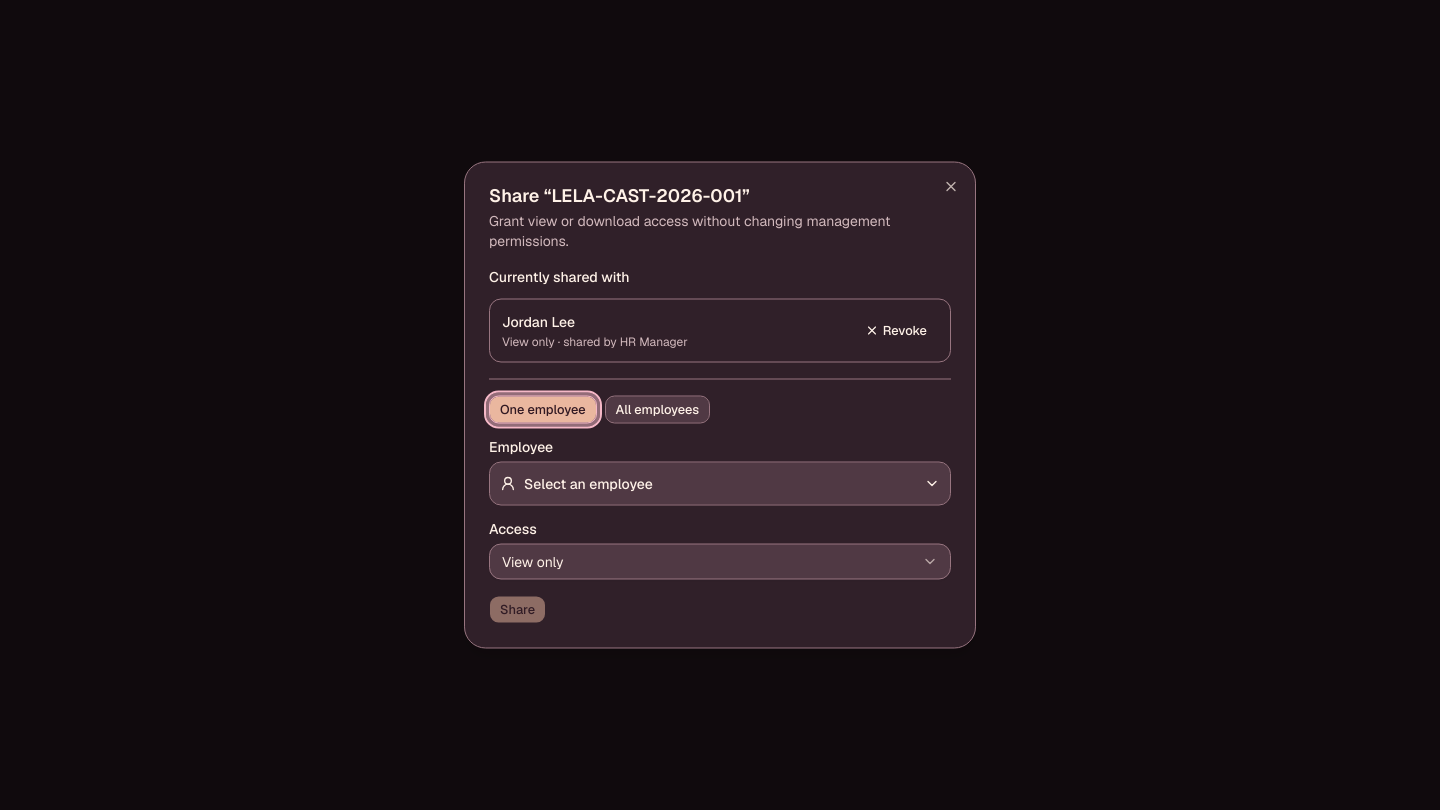
ShareDialog › allows retrying an employee lookup failure
The image size is (1440, 810).
Click the button with aria-label "Select employee". click: click(588, 484)
box: [489,462,951,506]
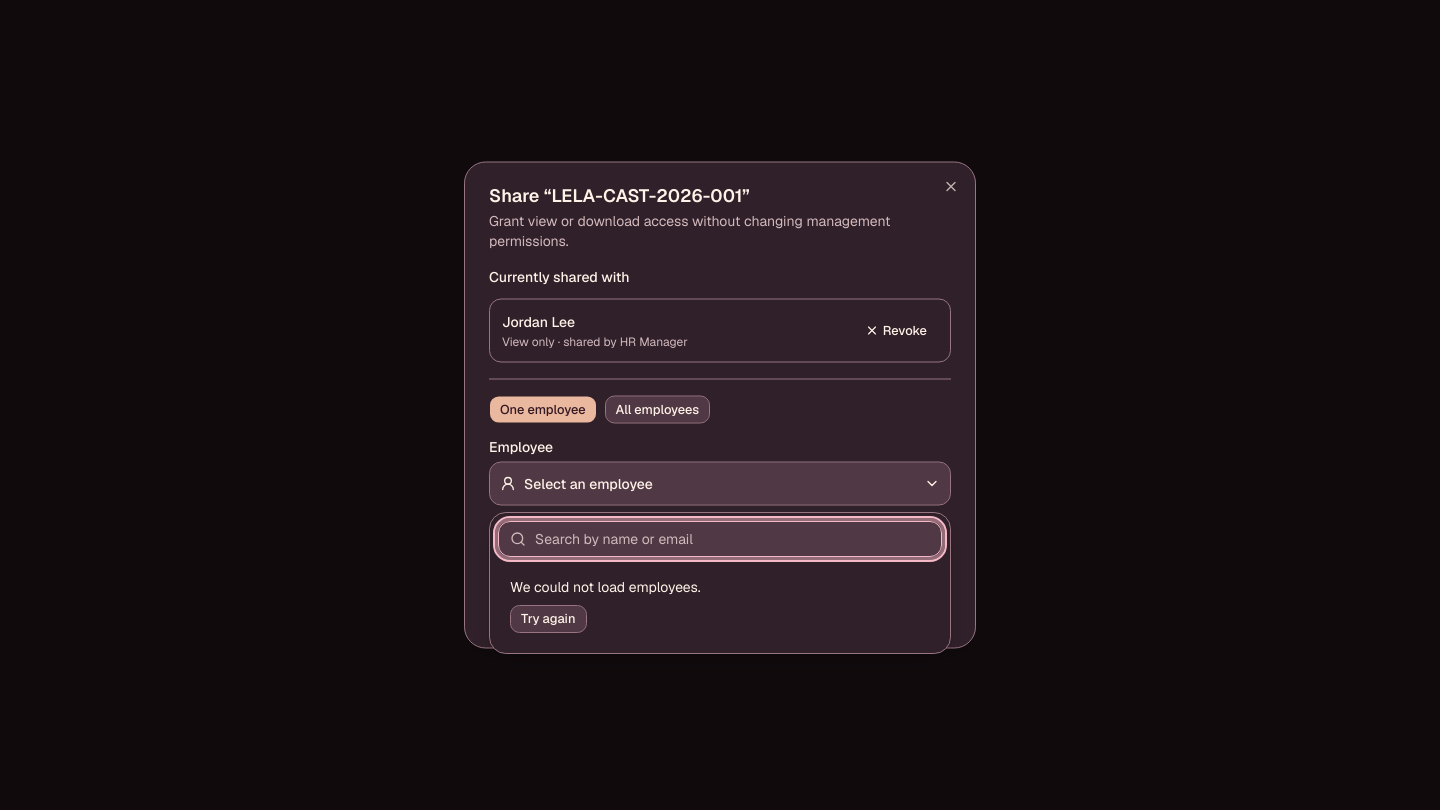
Result: the message shows "We could not load employees." at [510,578,701,596]
Click the button "Try again". click: click(548, 619)
box: [510,605,586,633]
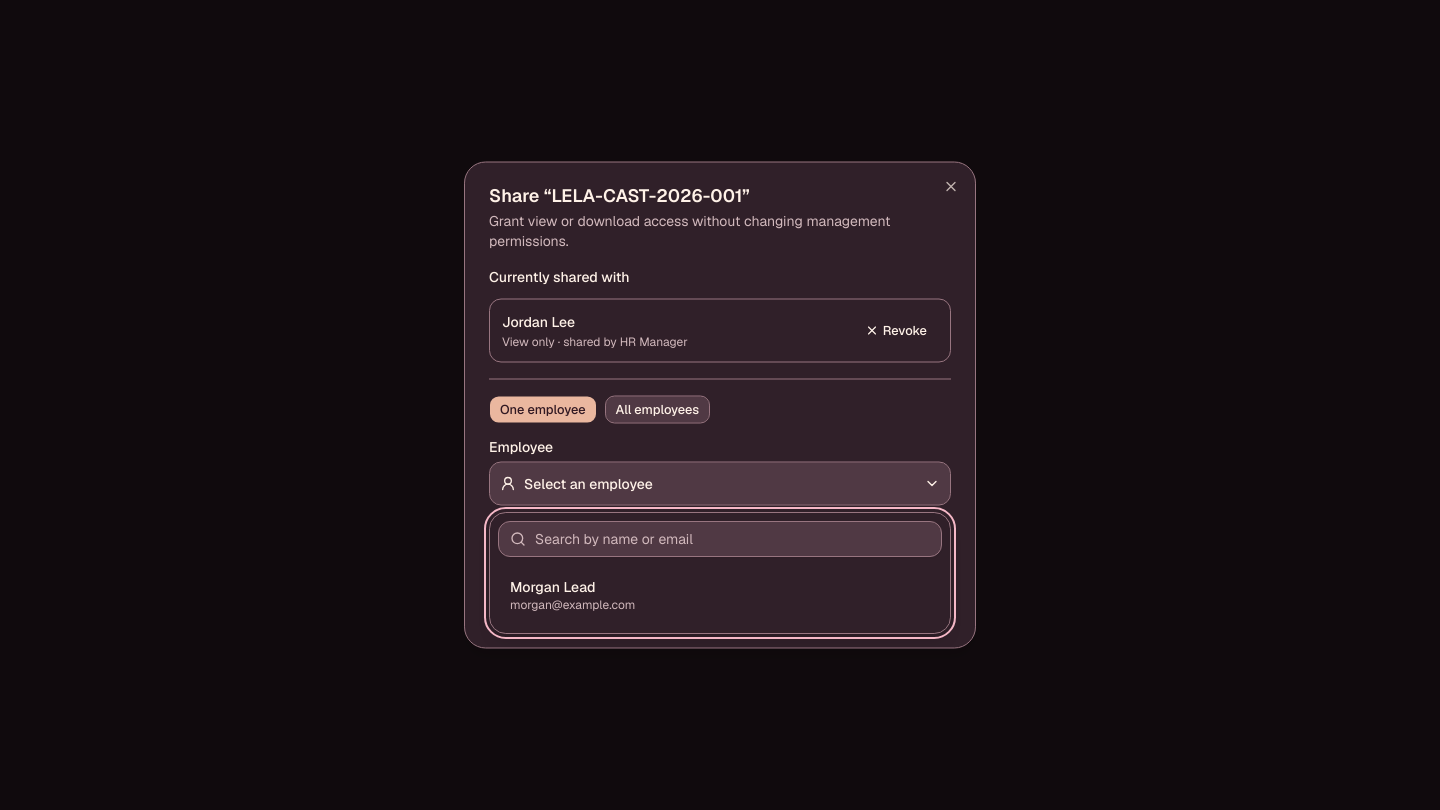
Result: the button "Morgan Lead morgan@example.com" is shown at [498,565,942,625]
